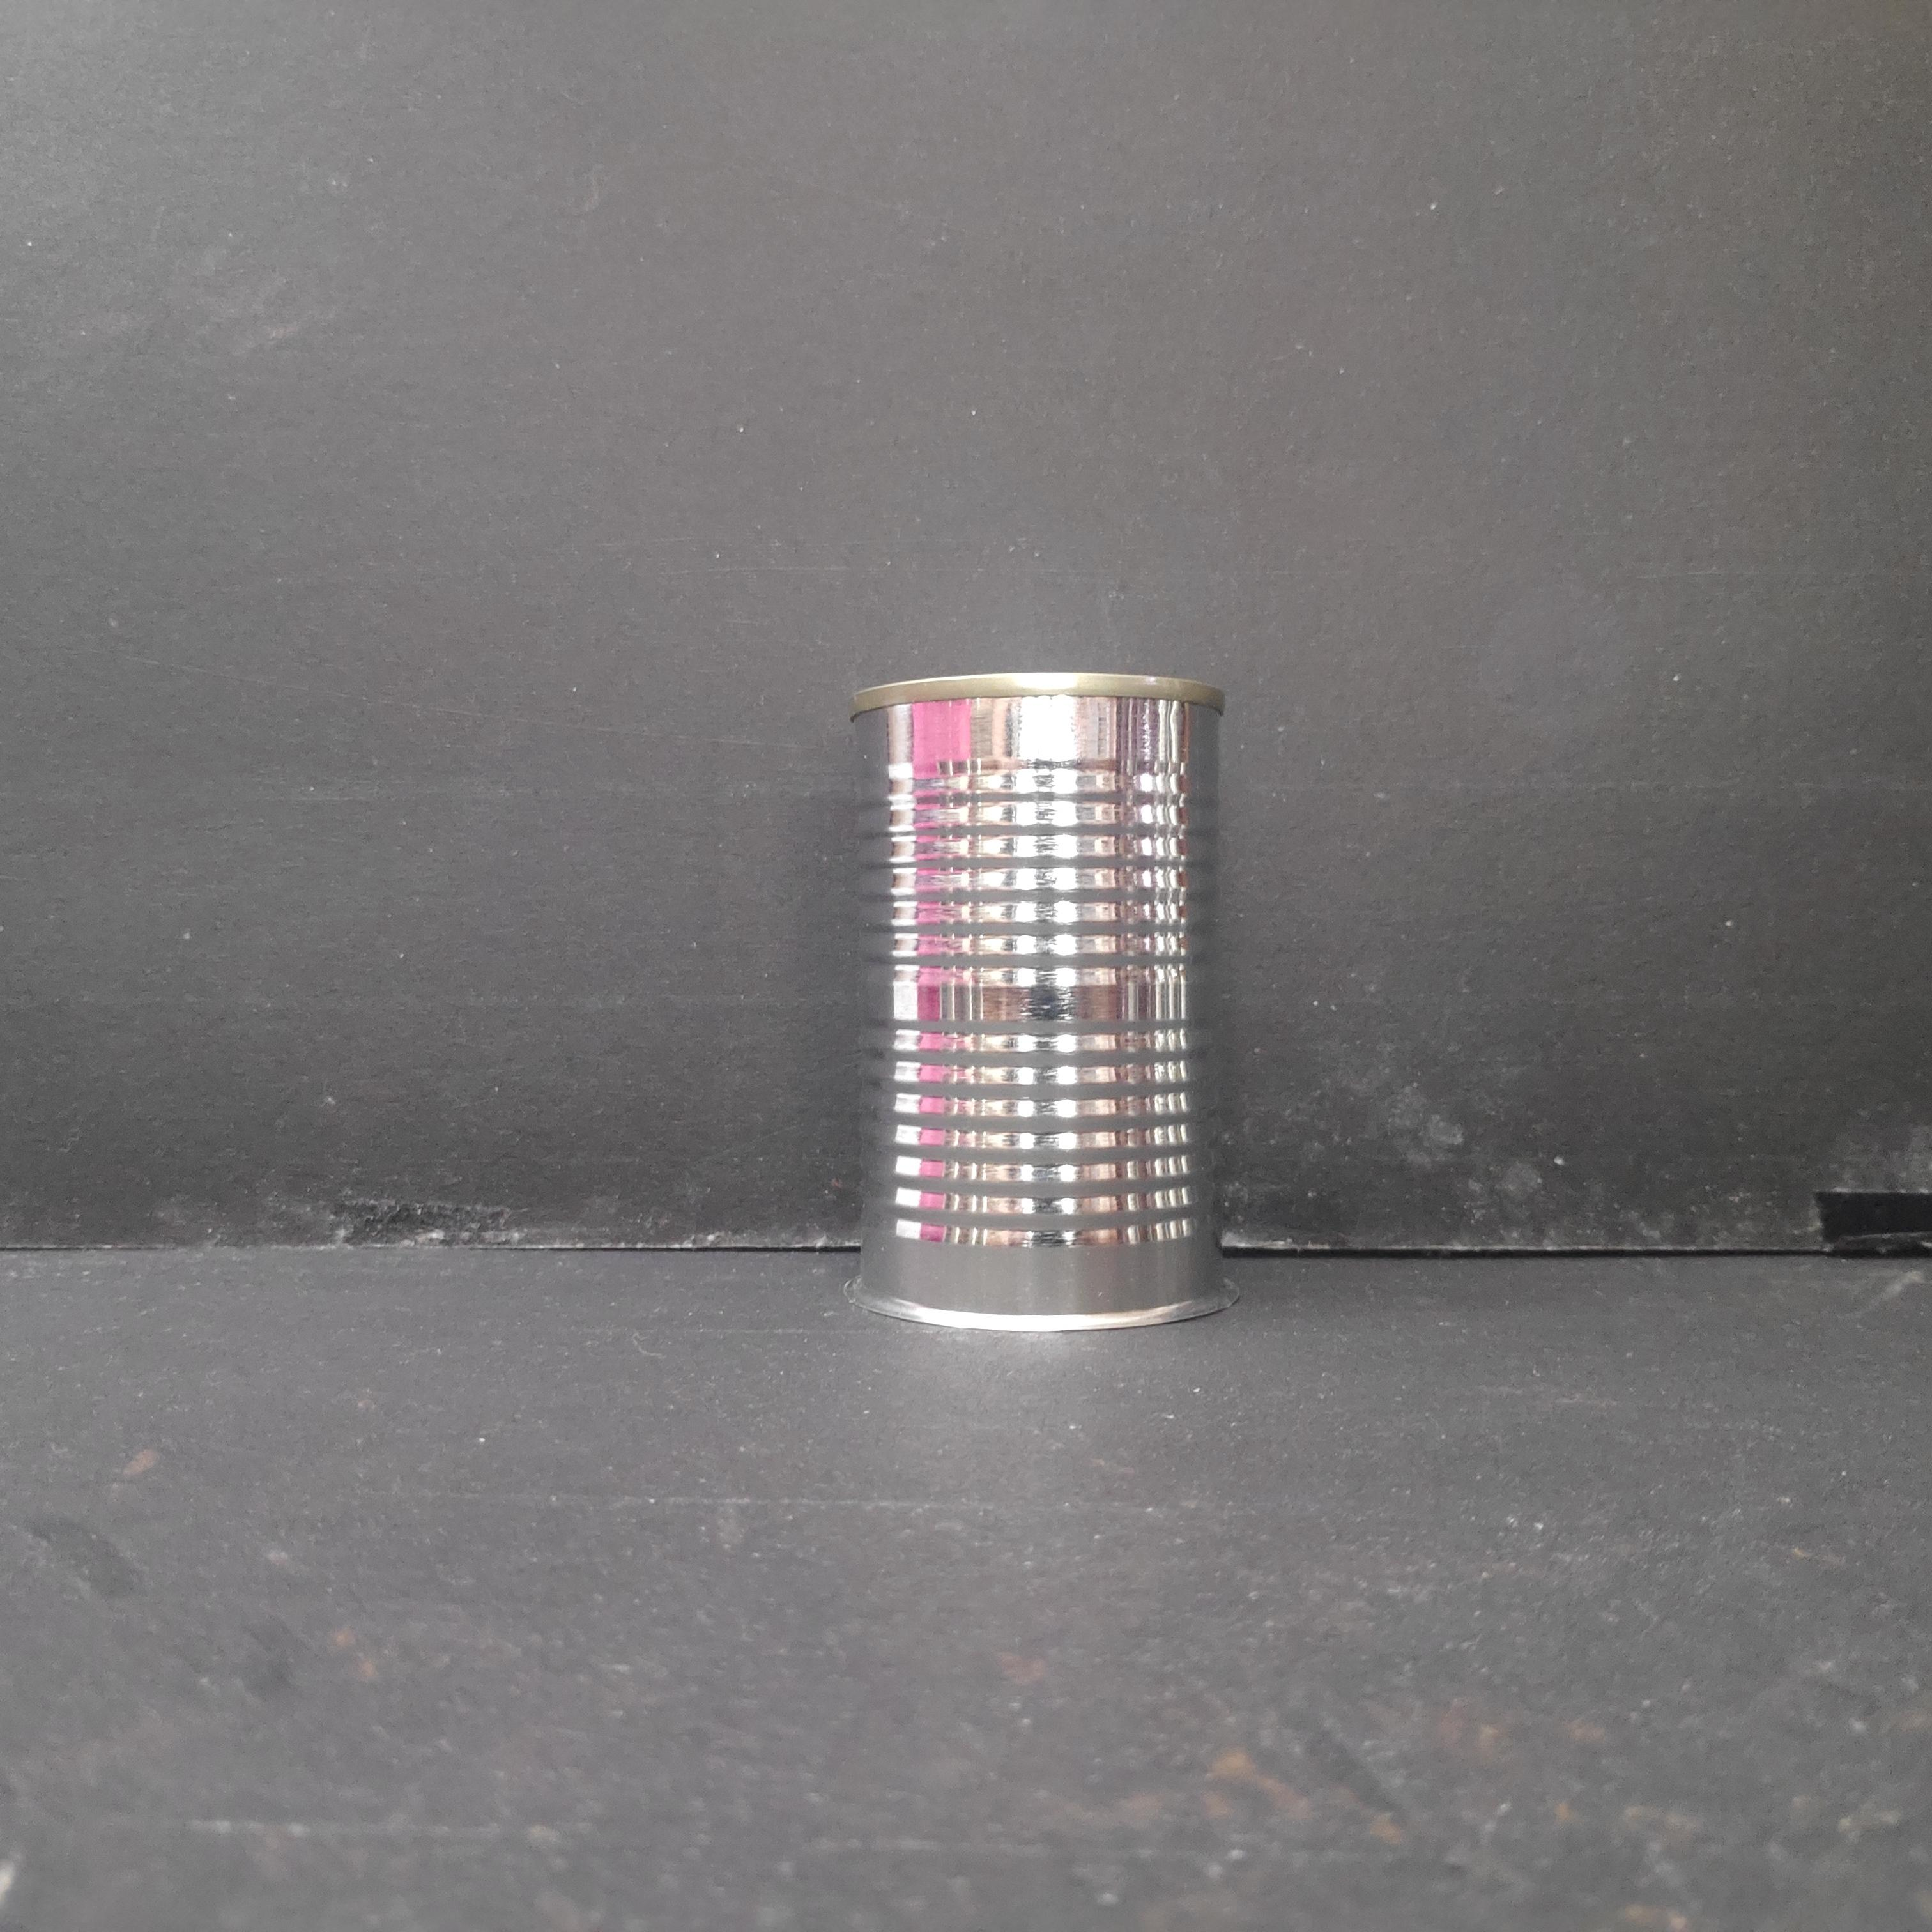No defect: (839, 669, 1237, 1334)
